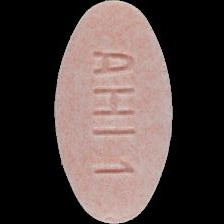16729-001: (0, 0, 224, 224)
